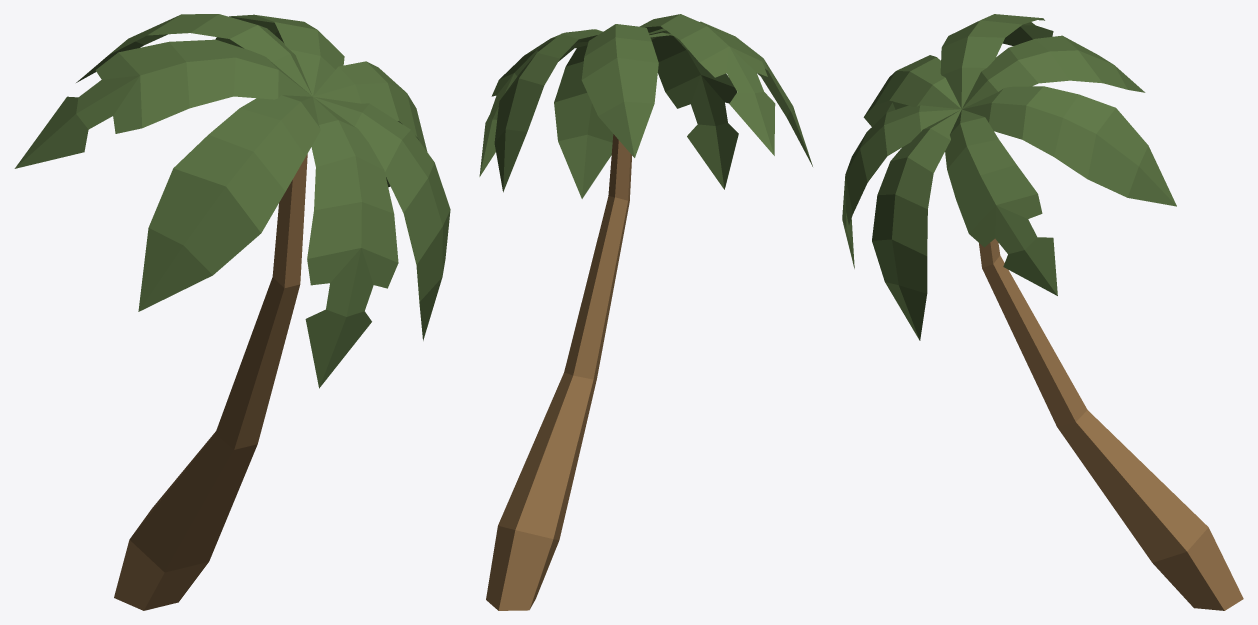
Rendered from tree_palm_04.fbx.
3 views of the same model, side by side, from view 1: azimuth 30°, elevation 25°; view 2: azimuth 150°, elevation 25°; view 3: azimuth 270°, elevation 25° (orthographic). The views are drawn at different scales.
Parts seen in each view (by area): view 1: tree_palm_04; view 2: tree_palm_04; view 3: tree_palm_04.
Part boxes in pixels (x1,y1,x2,y2): tree_palm_04: (14, 14, 450, 610); tree_palm_04: (479, 14, 812, 610); tree_palm_04: (842, 14, 1243, 610).
Bounding box in the file's own units: 244 × 410 × 277.
